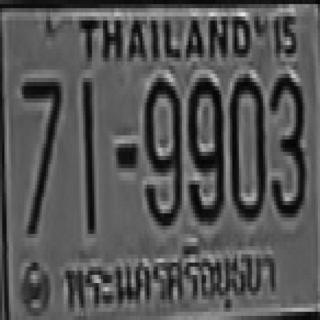N00: (228, 74, 263, 218)
N01: (81, 80, 94, 232), (82, 78, 93, 230)
N03: (270, 74, 304, 213)
N07: (20, 76, 59, 232)
N09: (142, 74, 180, 226), (186, 74, 221, 222)
P03: (62, 242, 280, 319)
